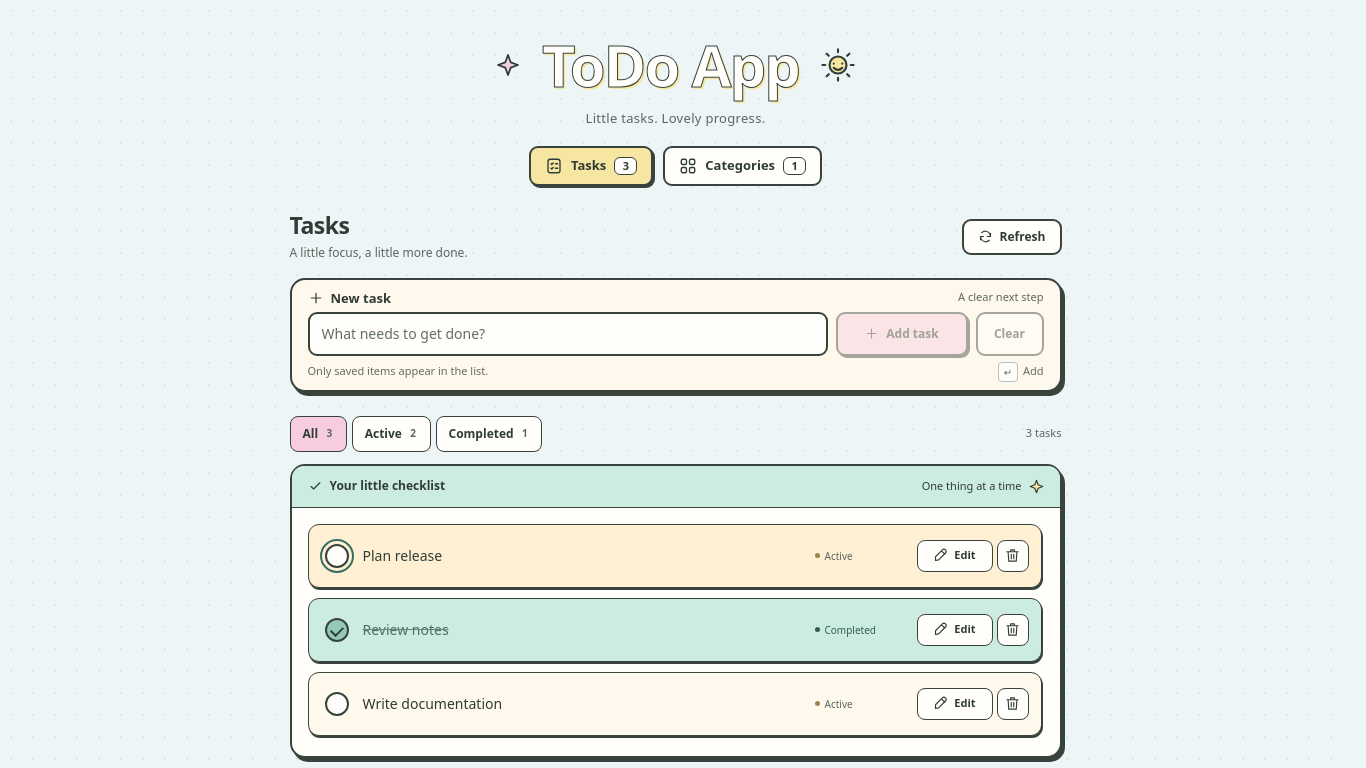
Test case: restores keyboard focus after a toggle, including when a filtered row disappears
Check: the text "Plan release" is shown, box [362, 546, 442, 565]
Step 1. Click the checkbox named "Mark task “Plan release” as completed" → (336, 556), box [324, 544, 348, 568]
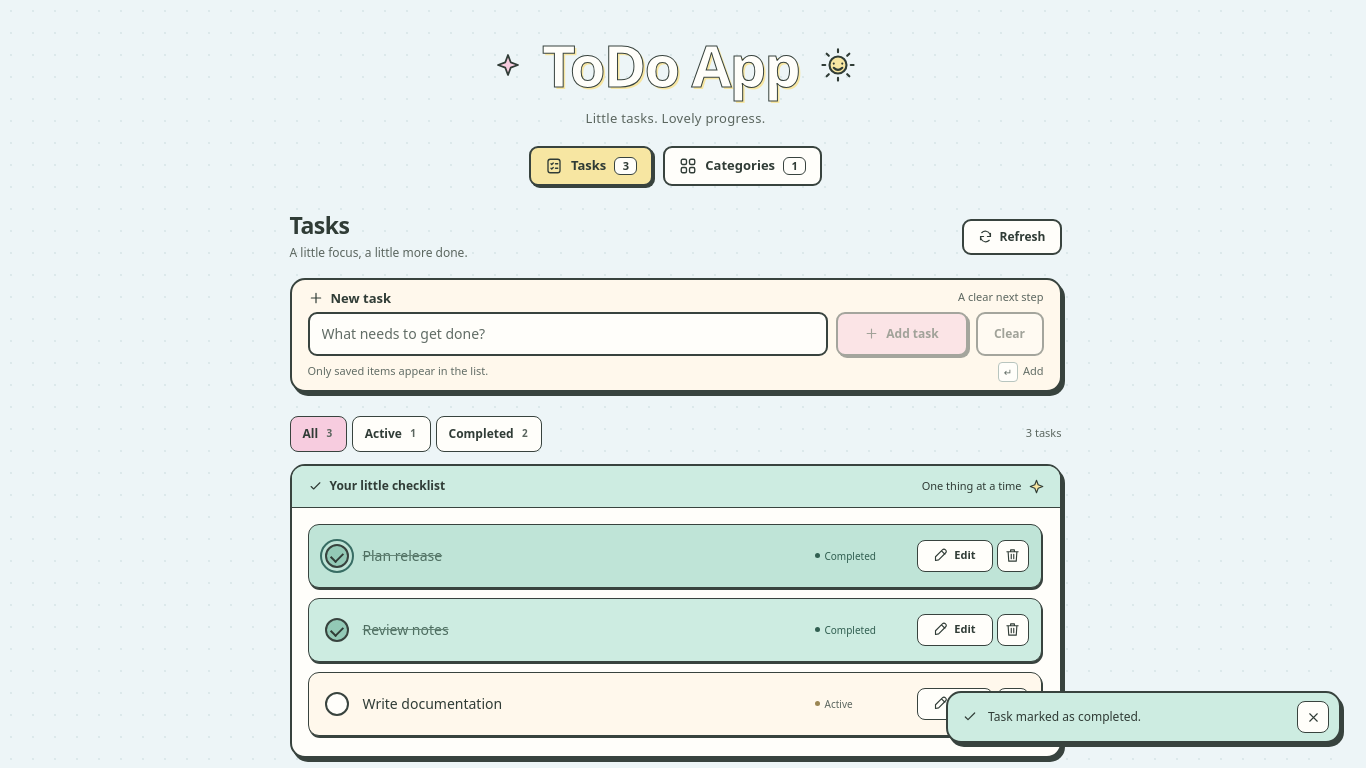
Check: the text "Task marked as completed." is shown, box [988, 708, 1141, 725]
Step 2. Click the button "Completed 2" → (489, 434), box [436, 416, 542, 452]
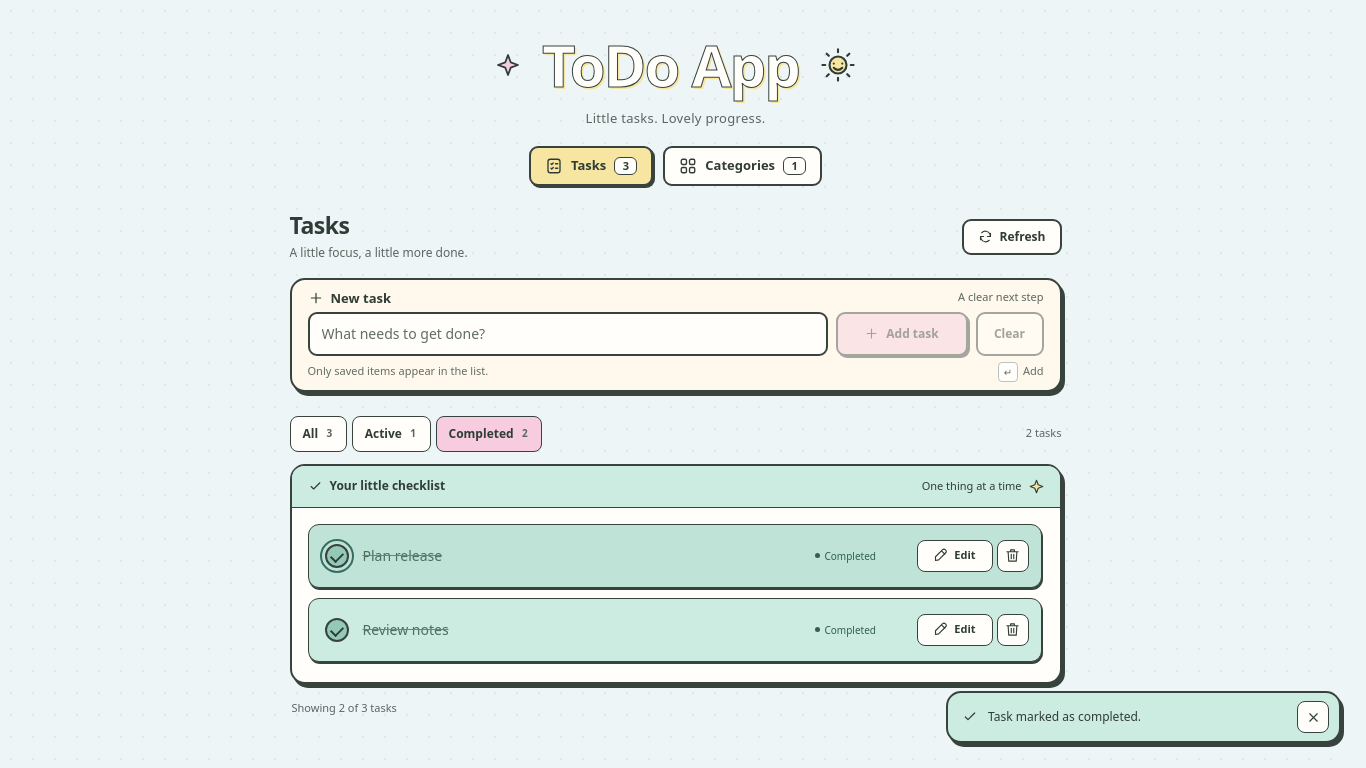
Step 3. Click the checkbox named "Mark task “Plan release” as active" → (336, 556), box [324, 544, 348, 568]
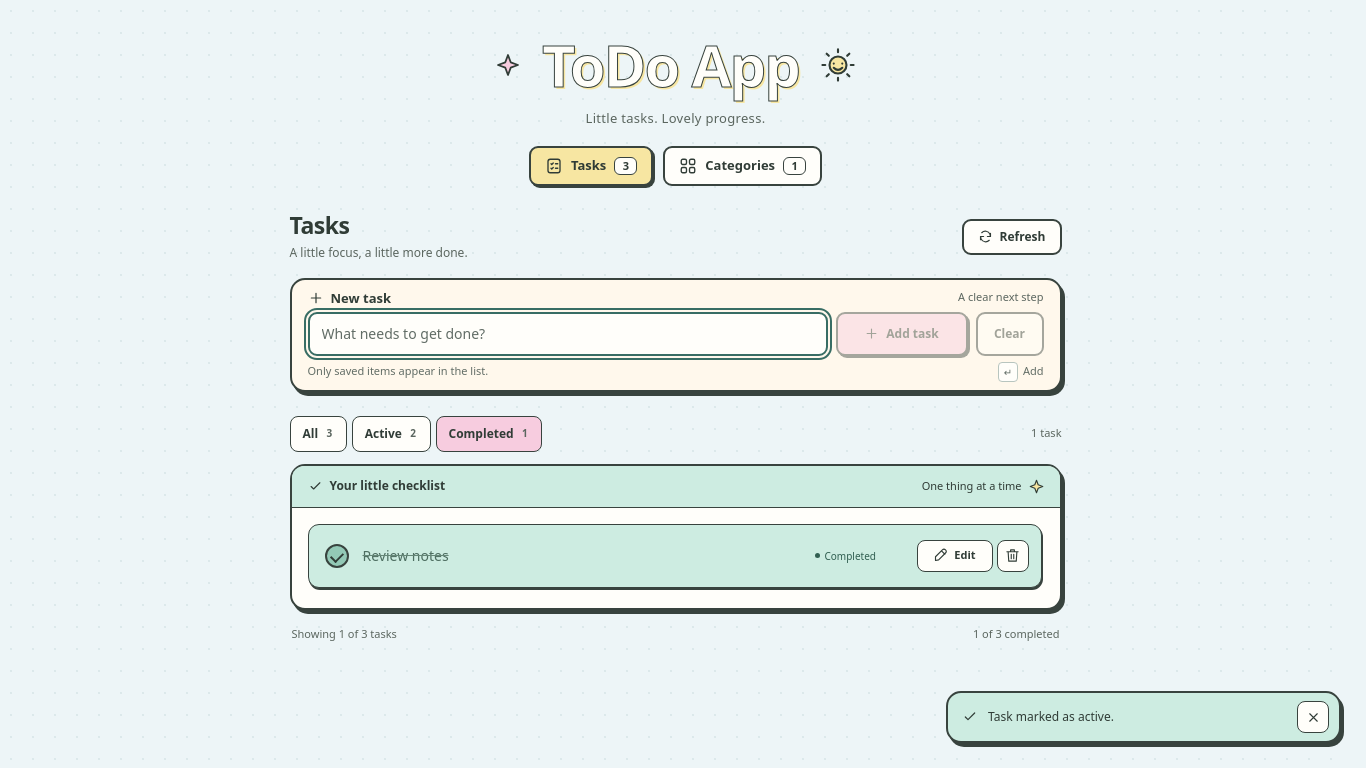
Check: the text "Task marked as active." is shown, box [988, 708, 1114, 725]
Check: the text "Plan release" is gone
